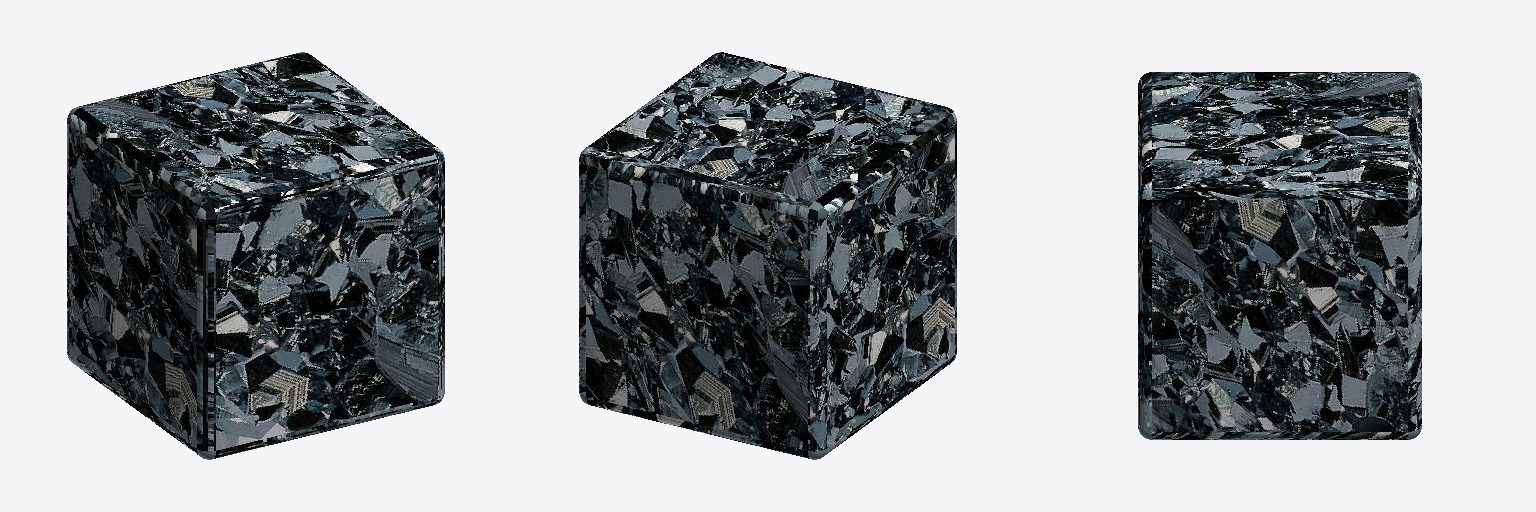
The picture shows the model from 3 angles: view 1: azimuth 30°, elevation 25°; view 2: azimuth 150°, elevation 25°; view 3: azimuth 270°, elevation 25°; orthographic projection.
Visible parts, largest first — view 1: Cube; view 2: Cube; view 3: Cube.
Part boxes in pixels (x1,y1,x2,y2): Cube: (67, 52, 444, 459); Cube: (579, 52, 956, 459); Cube: (1138, 72, 1421, 439).
Size of the model in its own units: 2 by 2 by 2.
Materials: 1 (1 with a texture image).